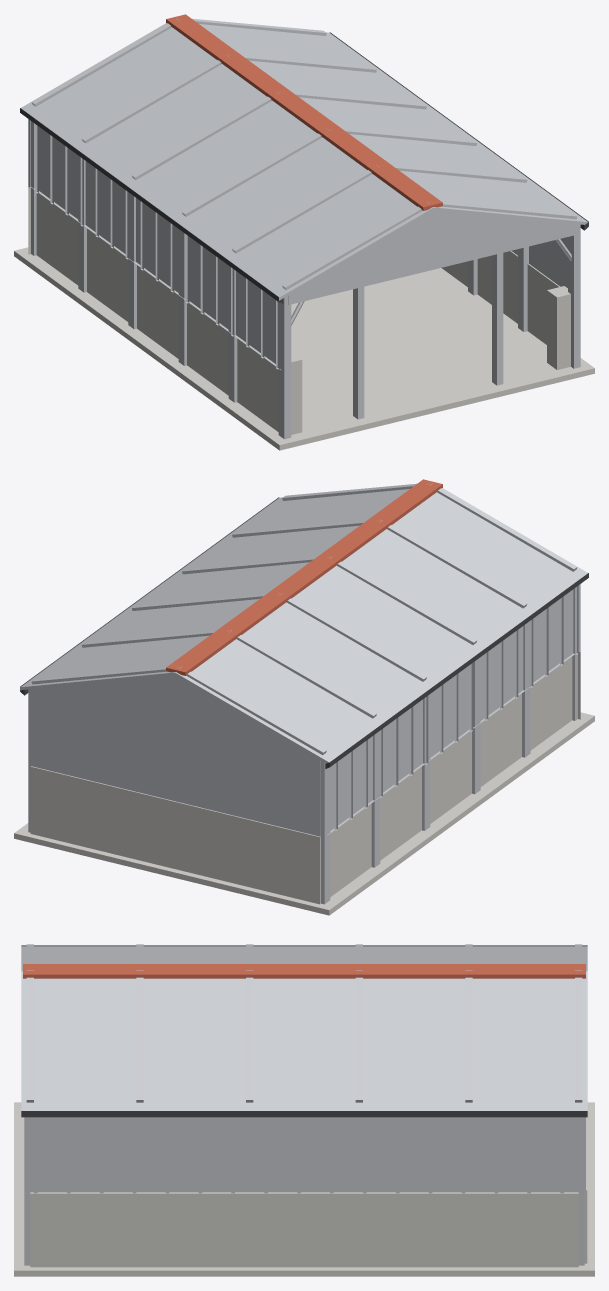
File: arable-fields-and-farm-machinery-machinery-shed-c066ee3f__16888.glb
The picture shows the model from 3 angles, top to bottom: view 1: azimuth 30°, elevation 25°; view 2: azimuth 150°, elevation 25°; view 3: azimuth 270°, elevation 25°; orthographic projection. The views are drawn at different scales.
Parts seen in each view (by area): view 1: machinery-shed; view 2: machinery-shed; view 3: machinery-shed.
Boxes of the visible parts, x1,y1,x2,y2 form: machinery-shed: (14,14,594,450); machinery-shed: (14,479,594,915); machinery-shed: (14,944,594,1276).
Bounding box in the file's own units: 10.9 × 6.74 × 15.9.
